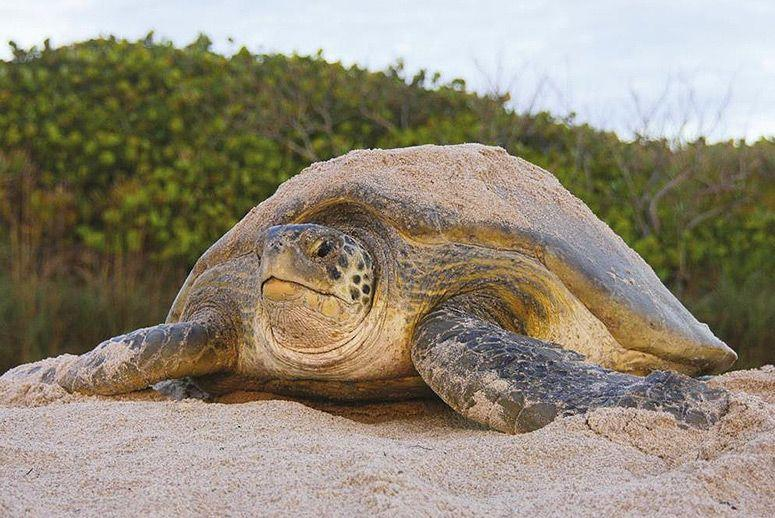turtle: (247, 215, 388, 365)
